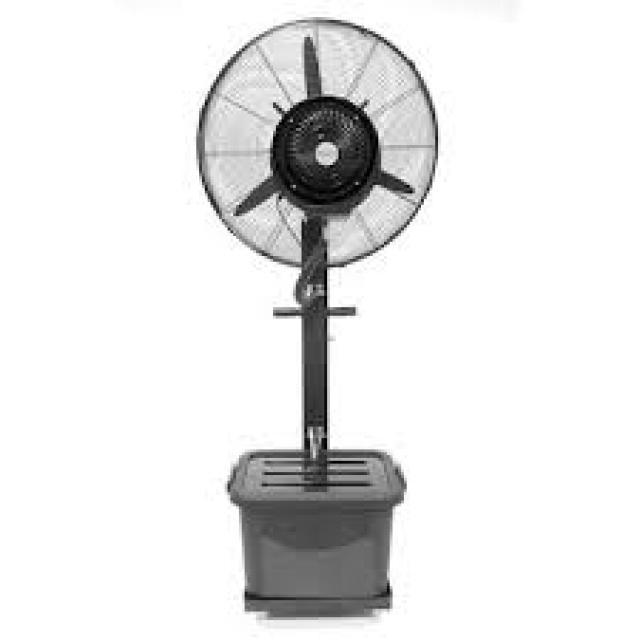fan: (176, 9, 454, 622)
